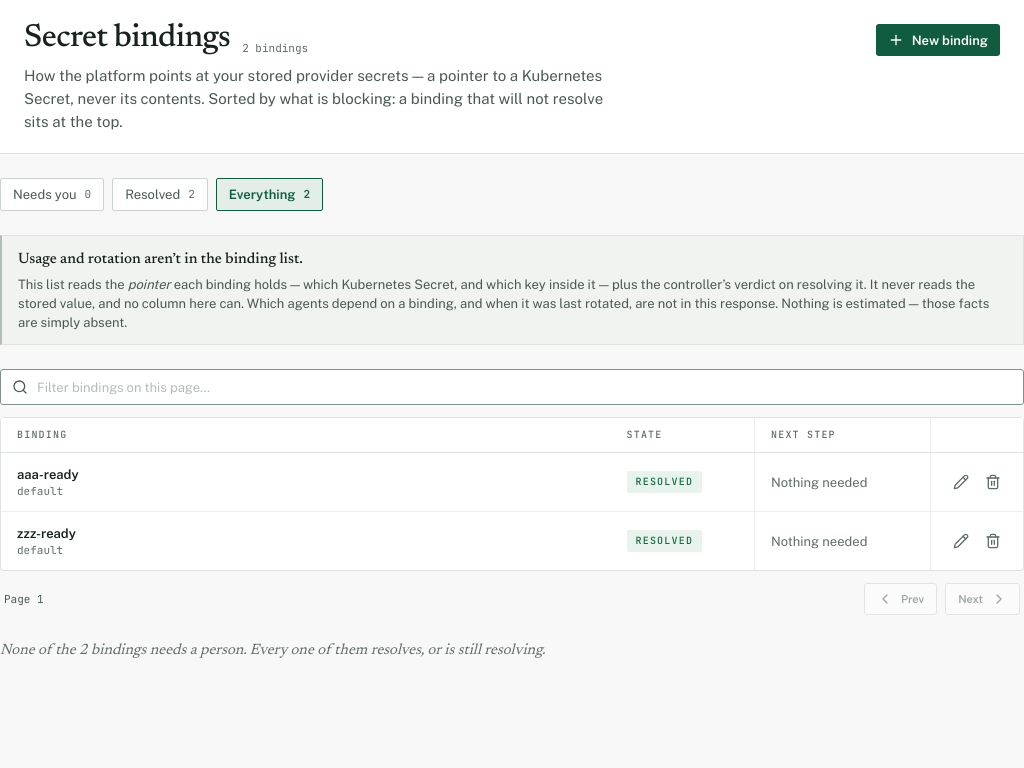
SecretBindingsPage — archetype A1 (M151) › an emptied chip view is the filtered state, and offers the way back
The width and height of the screenshot is (1024, 768).
Expected: the text "aaa-ready" is shown, [17,467,79,482]
Click the radio button labelled "Needs you 0": (52, 194) [0,178,104,211]
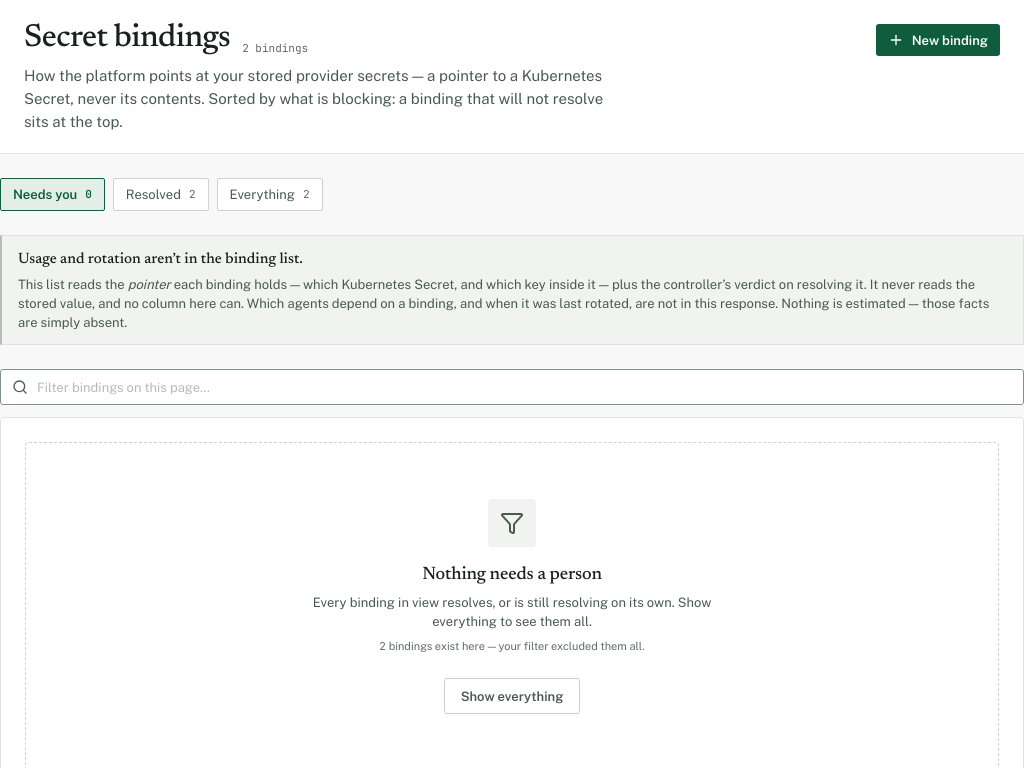
Expected: the heading "Nothing needs a person" is shown, [422,563,602,587]
Click the button "Show everything": (512, 696) [444,678,580,714]
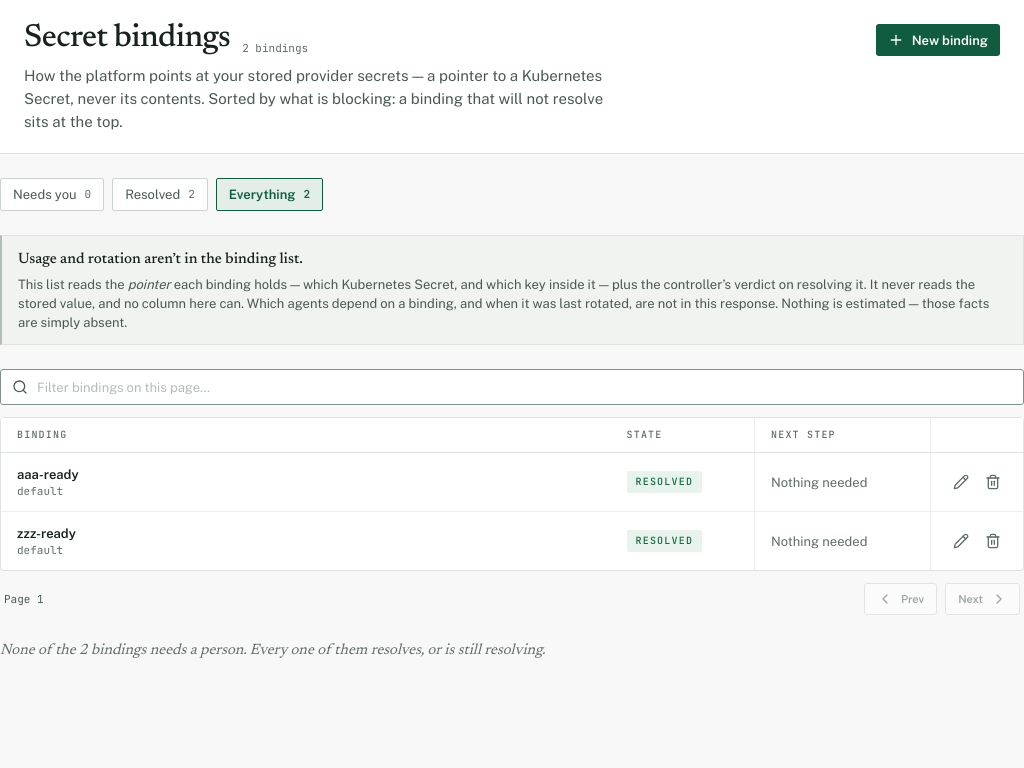
Expected: the text "aaa-ready" is shown, [17,467,79,482]
